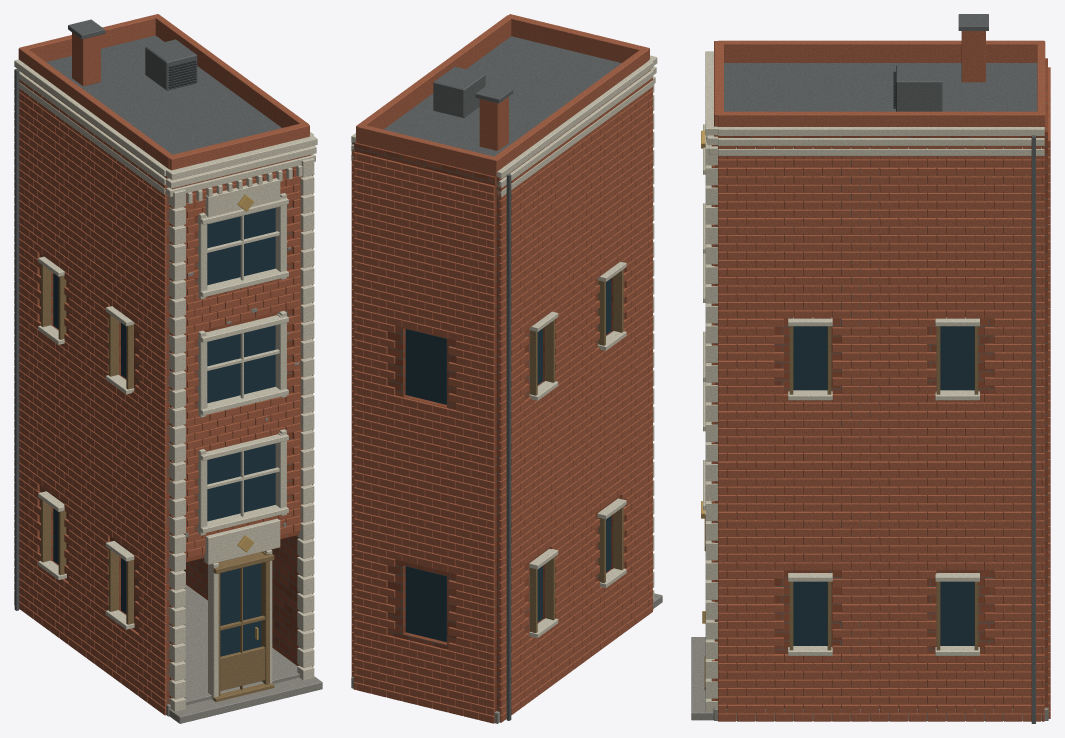
File: OFFC16_lod0.glb
The picture shows the model from 3 angles, left to right: view 1: azimuth 30°, elevation 25°; view 2: azimuth 150°, elevation 25°; view 3: azimuth 270°, elevation 25°; orthographic projection. The views are drawn at different scales.
Parts seen in each view (by area): view 1: OFFC16_LOD0; view 2: OFFC16_LOD0; view 3: OFFC16_LOD0.
Part boxes in pixels (x1,y1,x2,y2): OFFC16_LOD0: [14, 14, 322, 723]; OFFC16_LOD0: [351, 14, 662, 723]; OFFC16_LOD0: [691, 14, 1050, 723].
Bounding box in the file's own units: 3.71 × 13.05 × 6.6.
12 materials, 9 textured.
